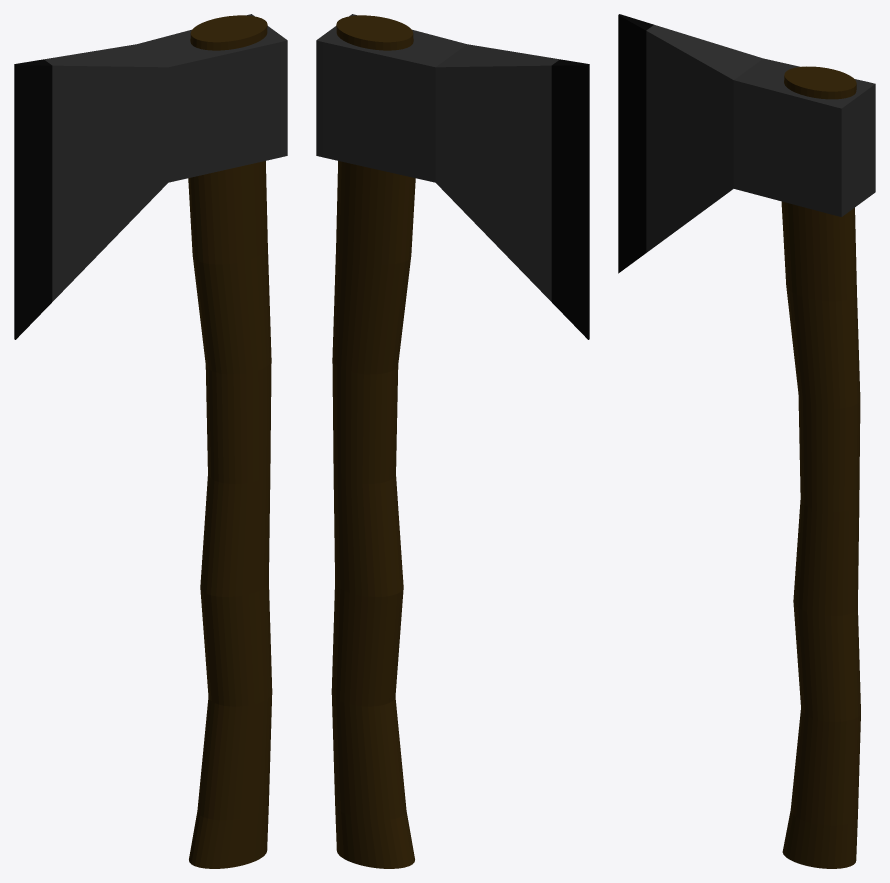
File: balta.glb
The picture shows the model from 3 angles, left to right: view 1: azimuth 30°, elevation 25°; view 2: azimuth 150°, elevation 25°; view 3: azimuth 330°, elevation 25°; orthographic projection. The views are drawn at different scales.
Parts seen in each view (by area): view 1: Cylinder; view 2: Cylinder; view 3: Cylinder.
Boxes of the visible parts, x1,y1,x2,y2 form: Cylinder: (14,14,287,868); Cylinder: (316,14,589,868); Cylinder: (618,14,875,868).
Bounding box in the file's own units: 4.62 × 14.61 × 1.13.
